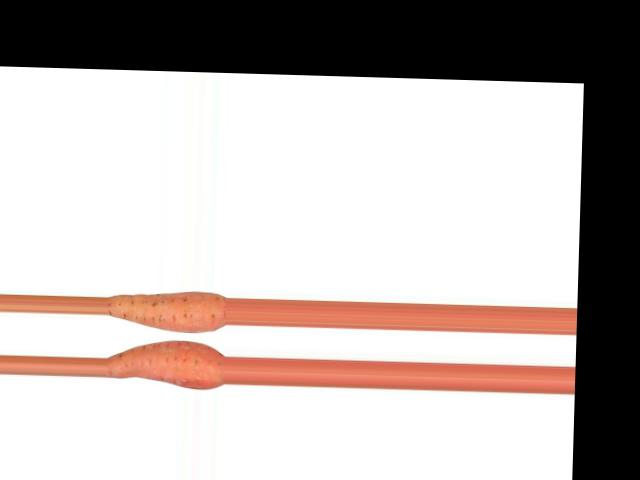sweet_potato: (110, 290, 227, 334)
